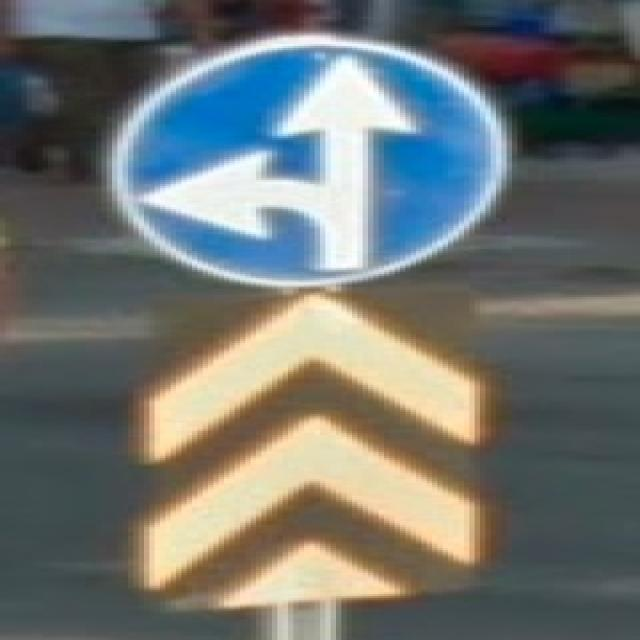Straight or Left: (110, 38, 505, 287)
